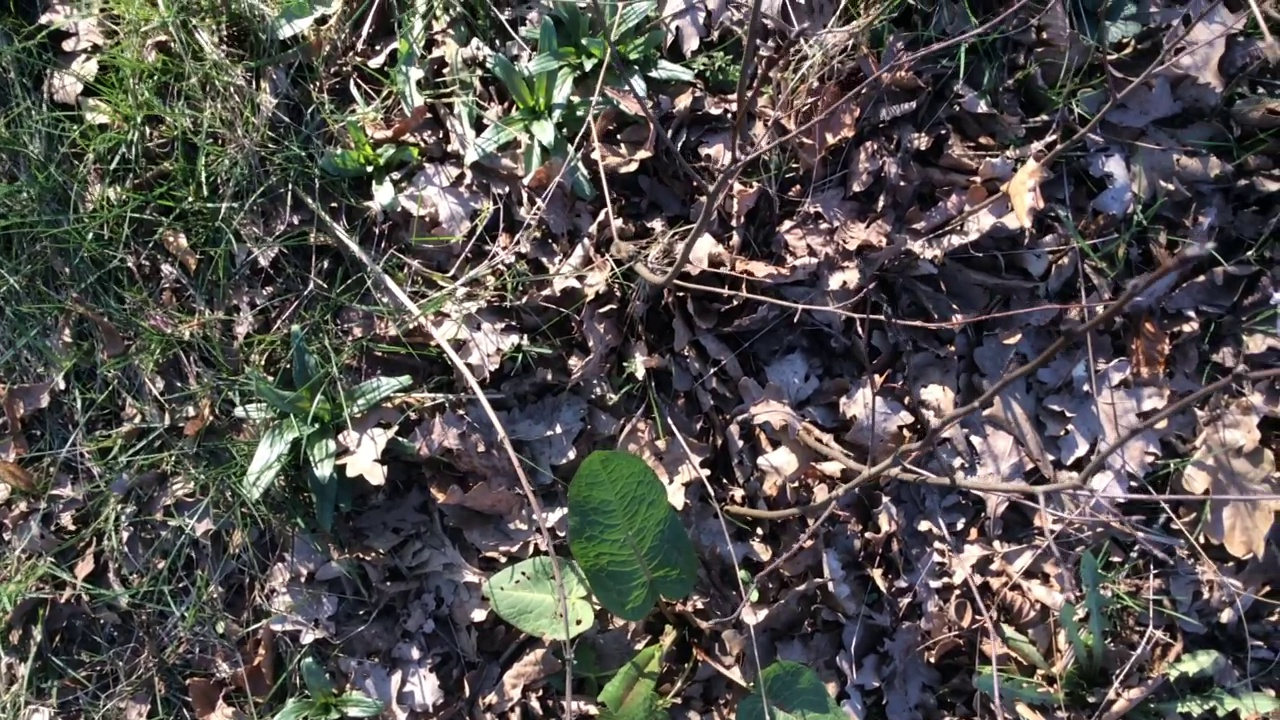rumex: (479, 450, 847, 720)
